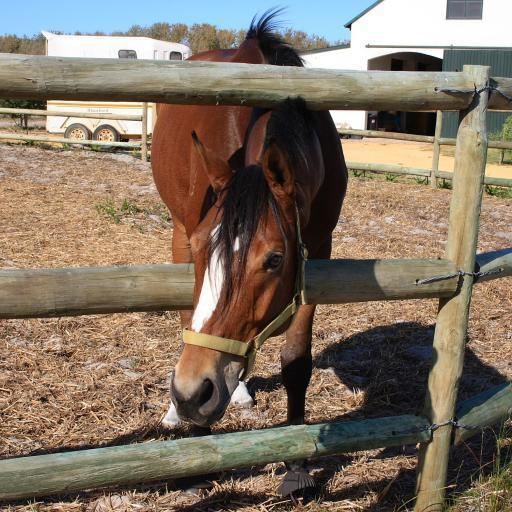horse: (148, 2, 351, 499)
